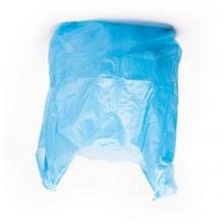plastic_bag: (31, 14, 192, 211)
